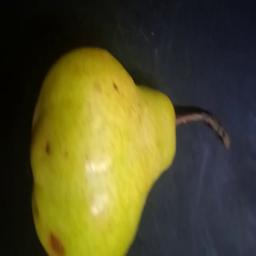Pear Semifresh: (27, 43, 233, 256)
